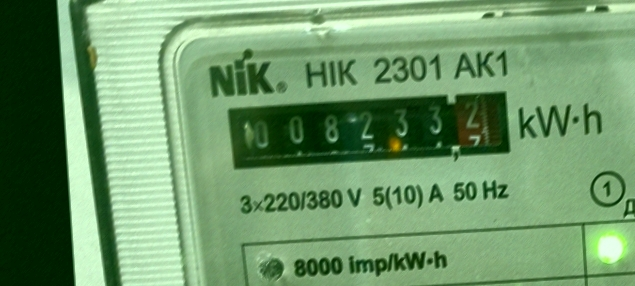0: (251, 119, 274, 152), (287, 115, 308, 148)
2: (356, 110, 378, 144), (464, 100, 483, 132)
3: (428, 104, 447, 137), (393, 108, 412, 140)
8: (323, 113, 342, 146)
screen: (219, 81, 524, 182)
